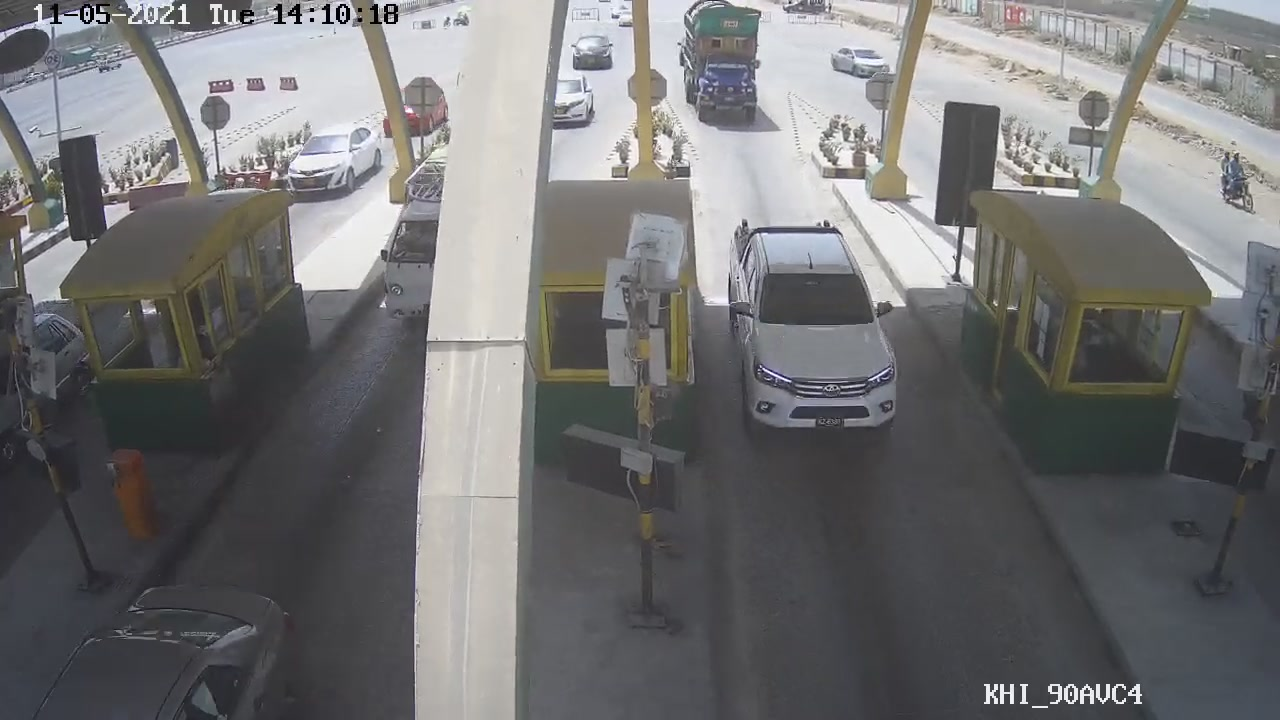F1: (719, 221, 903, 433)
